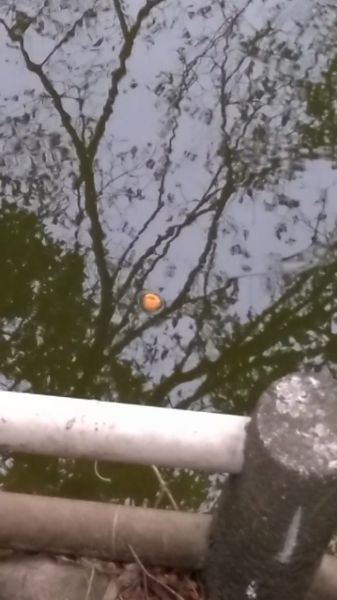eggs: (139, 287, 167, 315)
